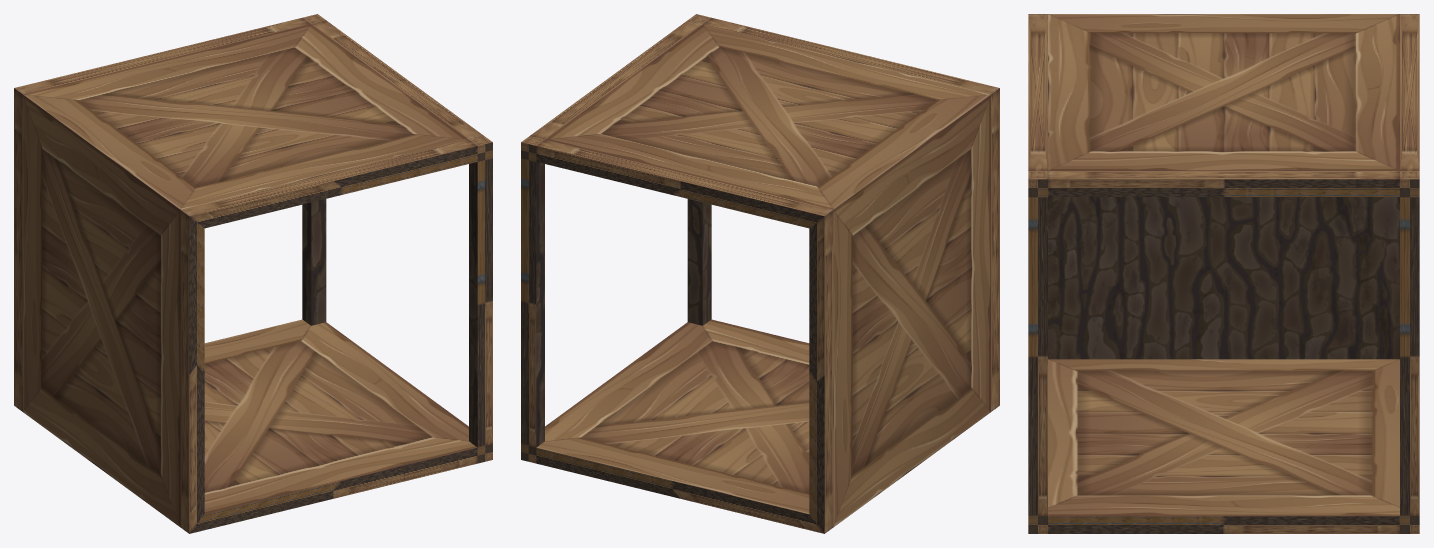
File: tsection.glb
The picture shows the model from 3 angles, left to right: view 1: azimuth 30°, elevation 25°; view 2: azimuth 150°, elevation 25°; view 3: azimuth 270°, elevation 25°; orthographic projection. The views are drawn at different scales.
Parts seen in each view (by area): view 1: tsection; view 2: tsection; view 3: tsection.
Boxes of the visible parts, bbox=[...] form: tsection: bbox=[14, 14, 492, 533]; tsection: bbox=[521, 14, 999, 533]; tsection: bbox=[1028, 14, 1419, 533].
Bounding box in the file's own units: 1 × 1 × 1.
Materials: 1 (1 with a texture image).
